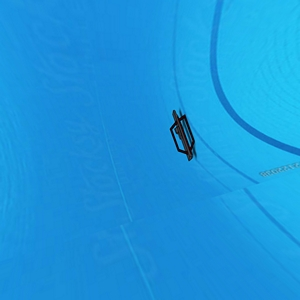submarine: (164, 110, 200, 160)
